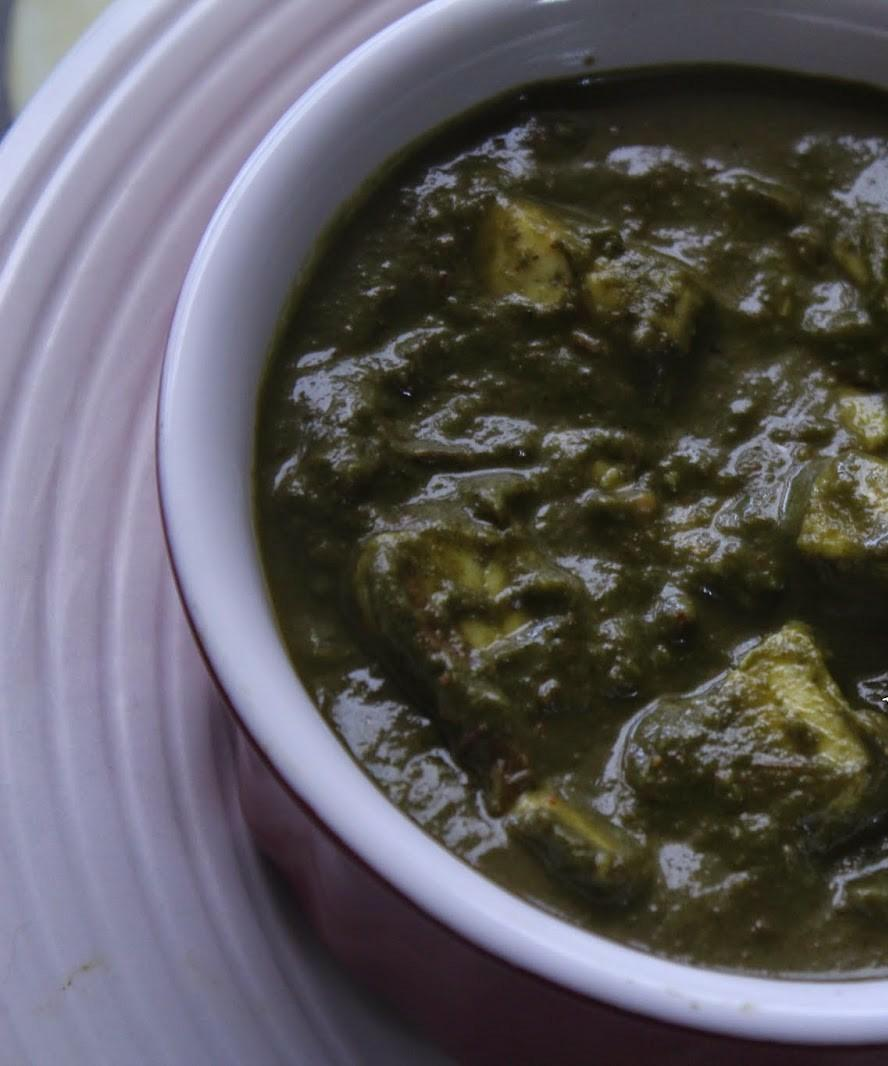PalakPaneer: (263, 61, 888, 981)
